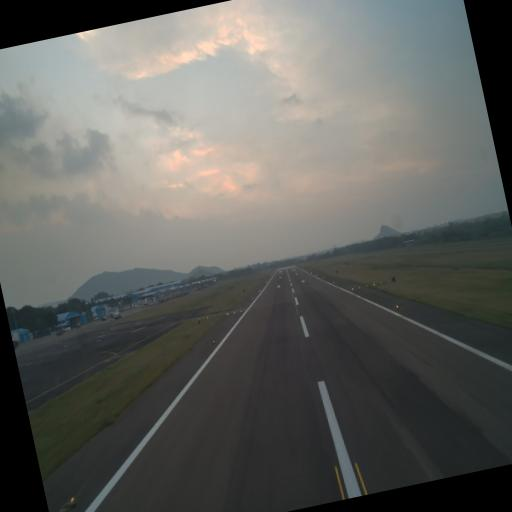on: (68, 492, 77, 505), (210, 336, 217, 346), (394, 300, 400, 310)
